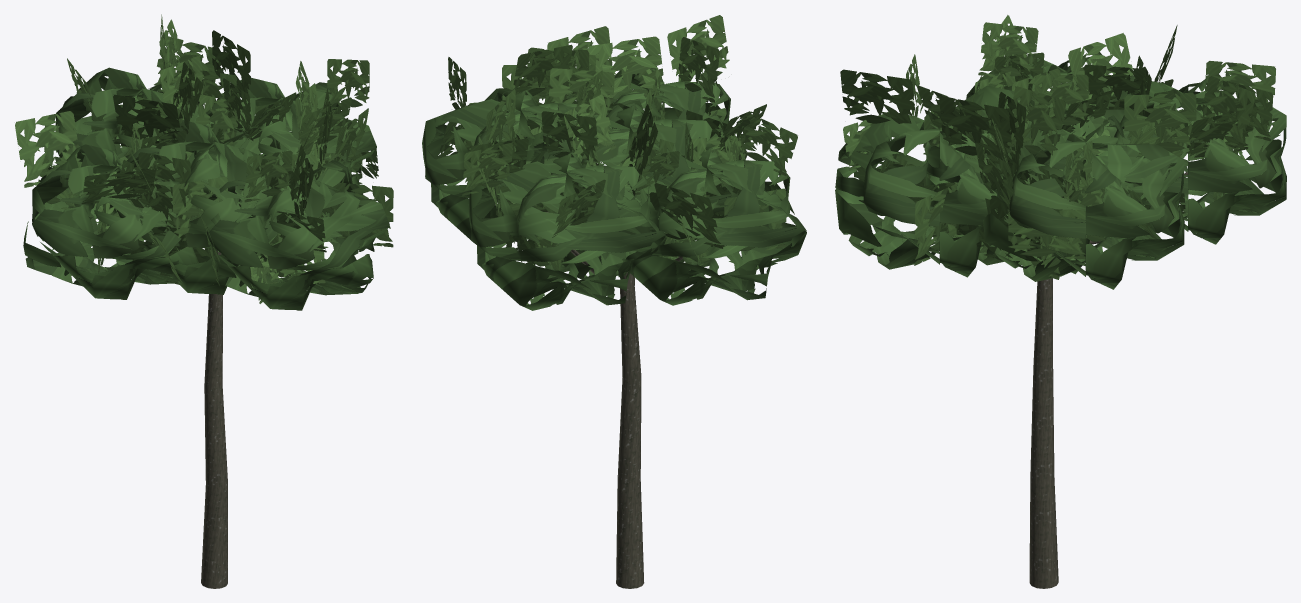
The model's file is nature.tree.karet.glb.
The picture shows the model from 3 angles, left to right: view 1: azimuth 30°, elevation 25°; view 2: azimuth 150°, elevation 25°; view 3: azimuth 270°, elevation 25°; orthographic projection. The views are drawn at different scales.
Visible parts, largest first — view 1: nature.tree.karet; view 2: nature.tree.karet; view 3: nature.tree.karet.
Part boxes in pixels (x1,y1,x2,y2): nature.tree.karet: (15,14,393,588); nature.tree.karet: (422,15,806,588); nature.tree.karet: (835,15,1286,588).
Bounding box in the file's own units: 10 × 13.68 × 10.51.
3 materials, 3 textured.
